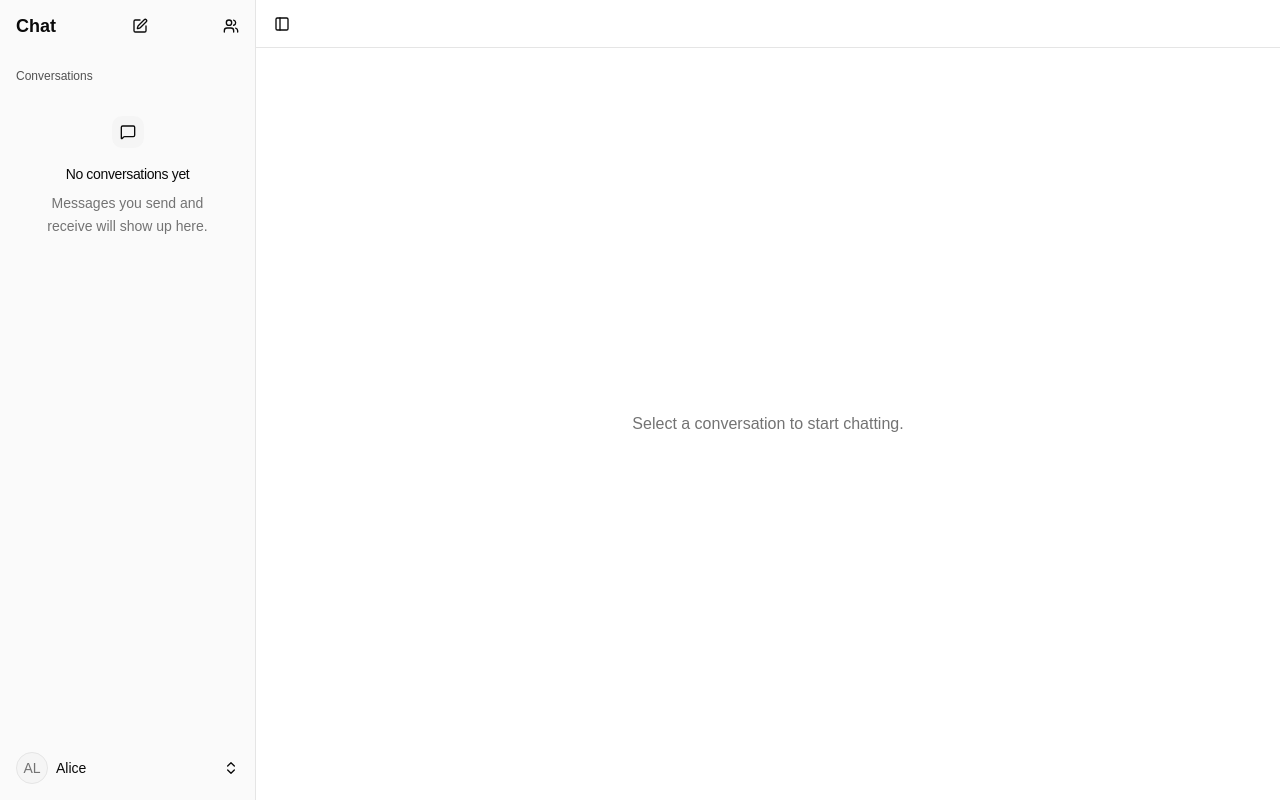
first Direct Message › shows a Message containing HTML literally
The image size is (1280, 800).
Expected: the text "No conversations yet" is shown, x1=66 y1=164 x2=189 y2=184
Click the button named "new conversation" at (140, 26), box x1=124 y1=10 x2=156 y2=42
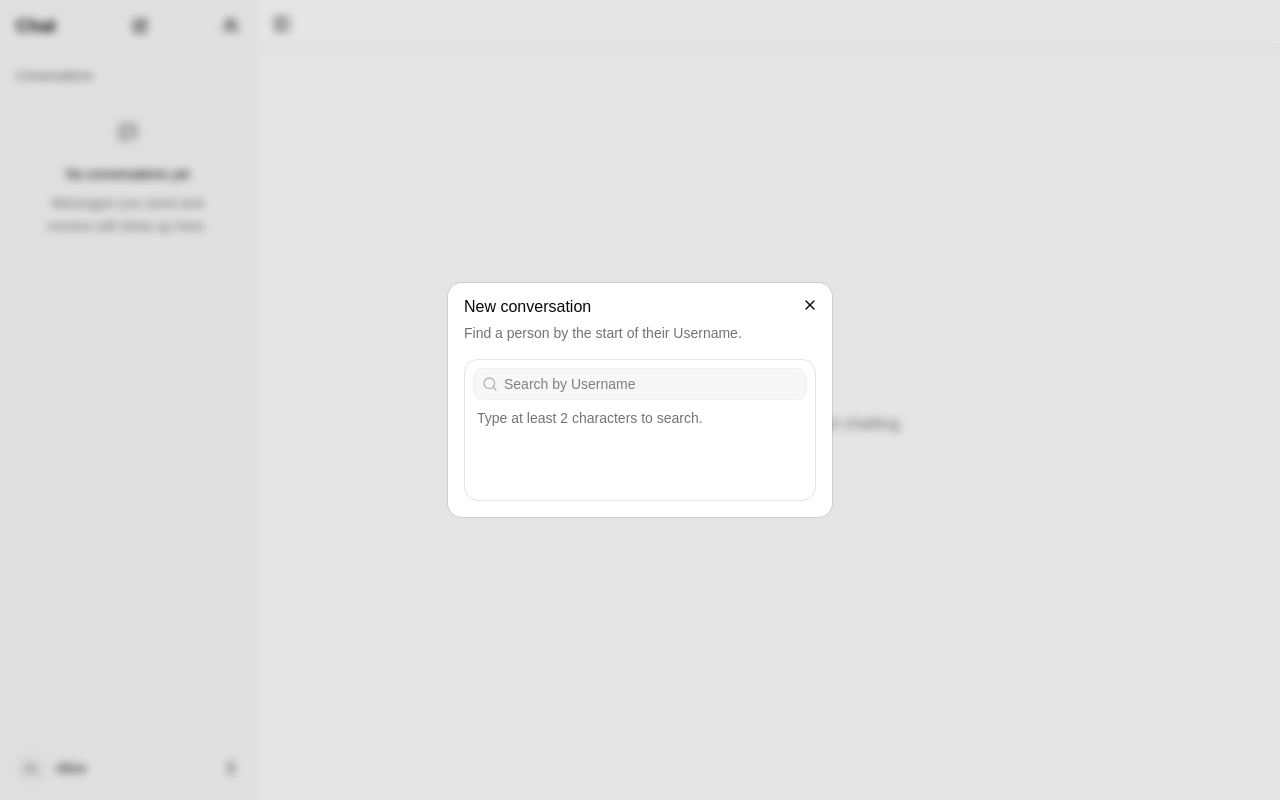
Type "bo" into the dropdown at (652, 384), box x1=498 y1=374 x2=806 y2=394
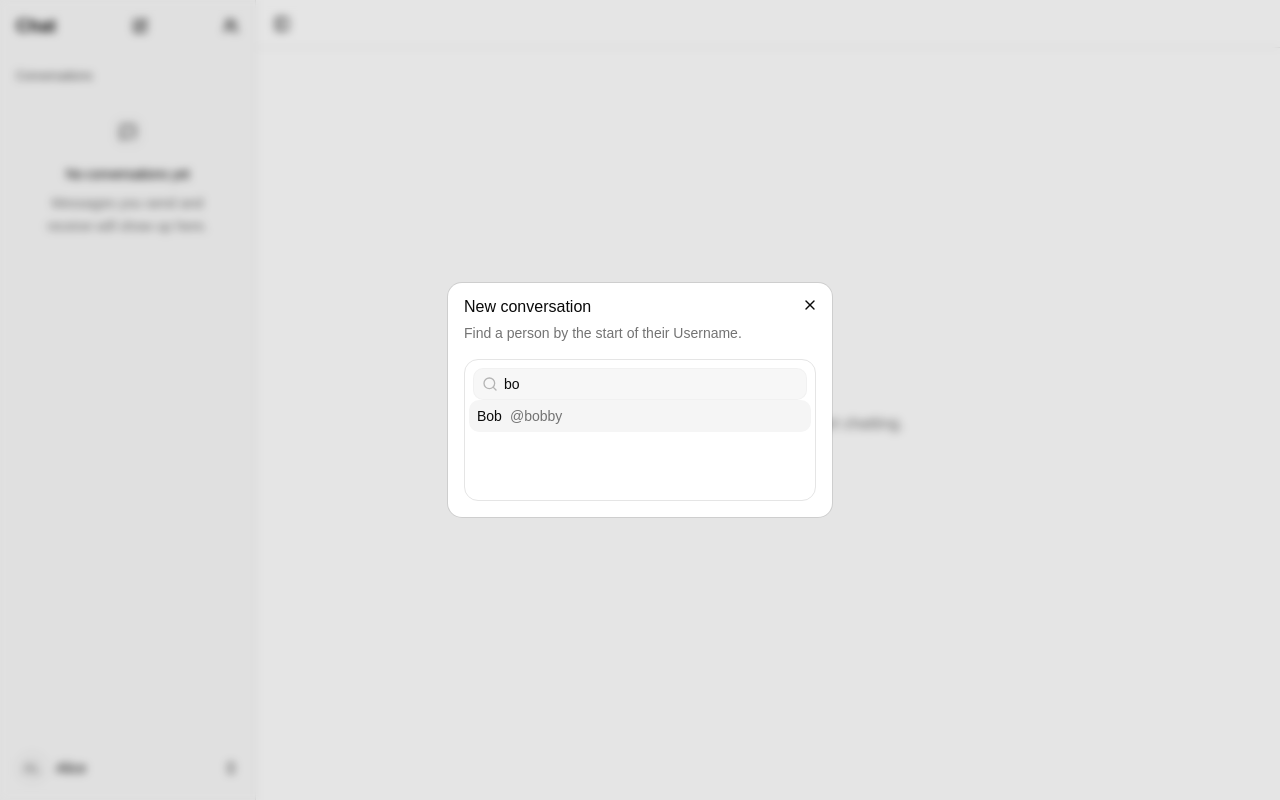
Click the option "Bob @bobby" at (543, 416), box x1=469 y1=400 x2=811 y2=432
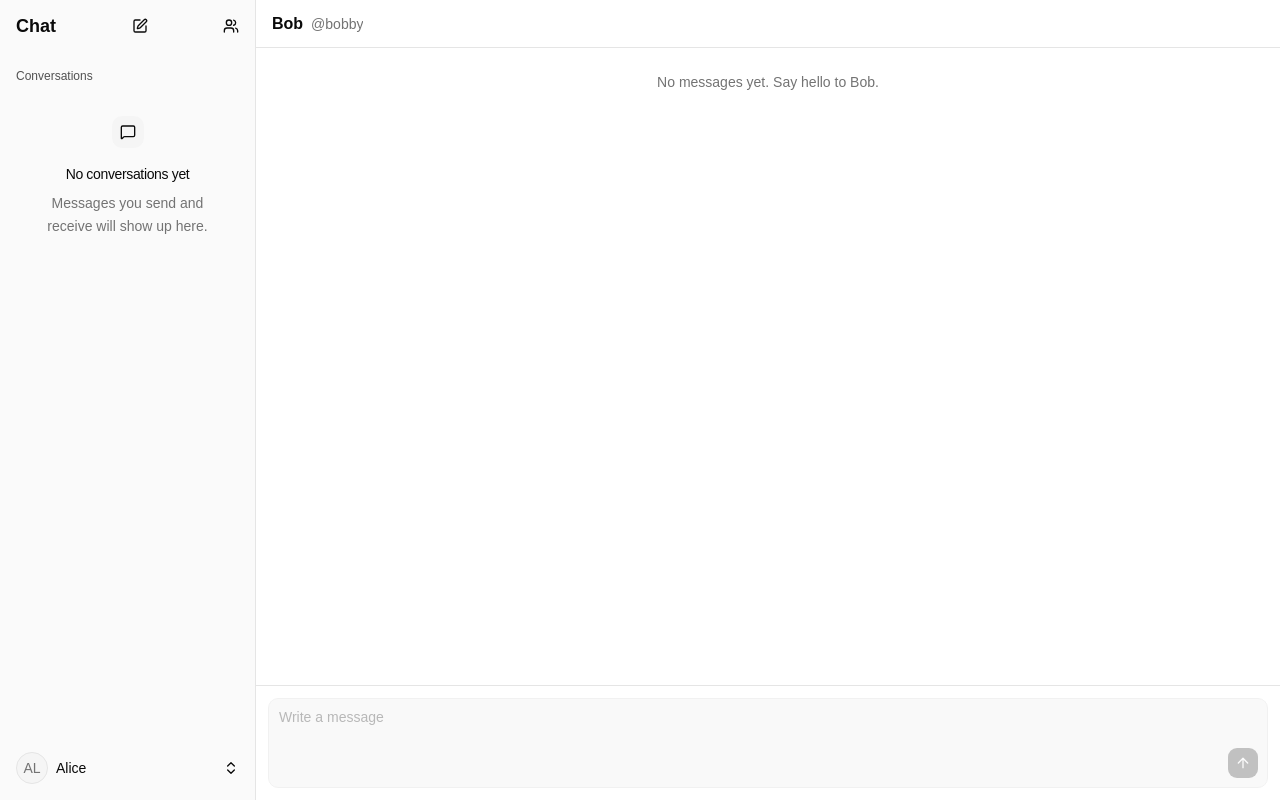
Type "<b>hi</b>" into the text box labelled "Write a message" at (768, 719), box x1=269 y1=699 x2=1267 y2=739
Then press Enter
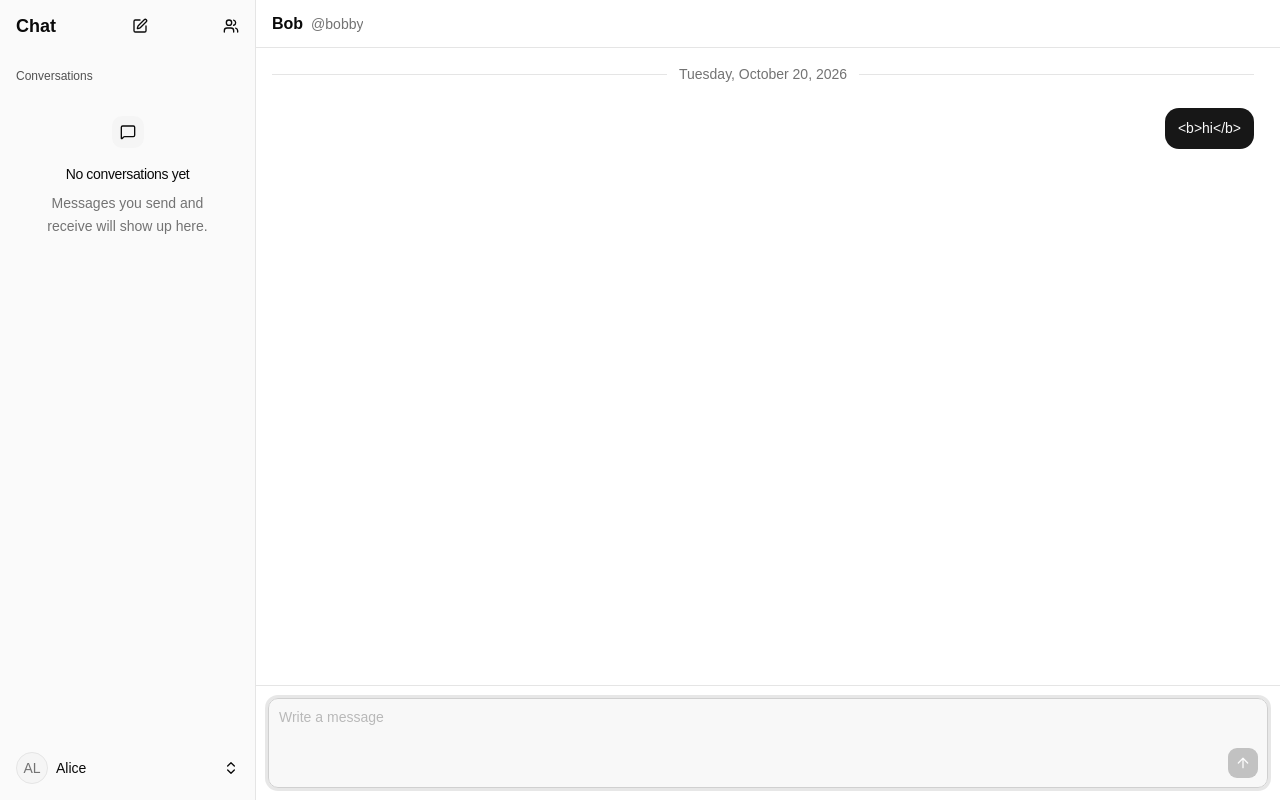
Result: the button "<b>hi</b>" is shown at x1=1165 y1=108 x2=1254 y2=149
